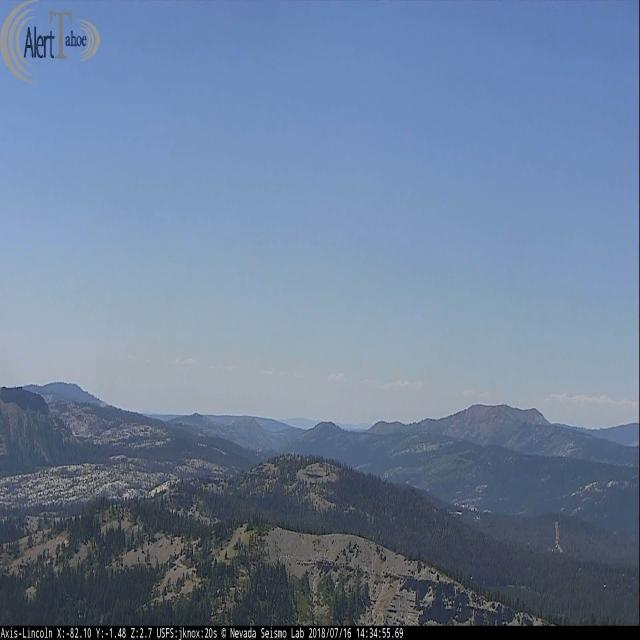smoke: (99, 398, 106, 408)
